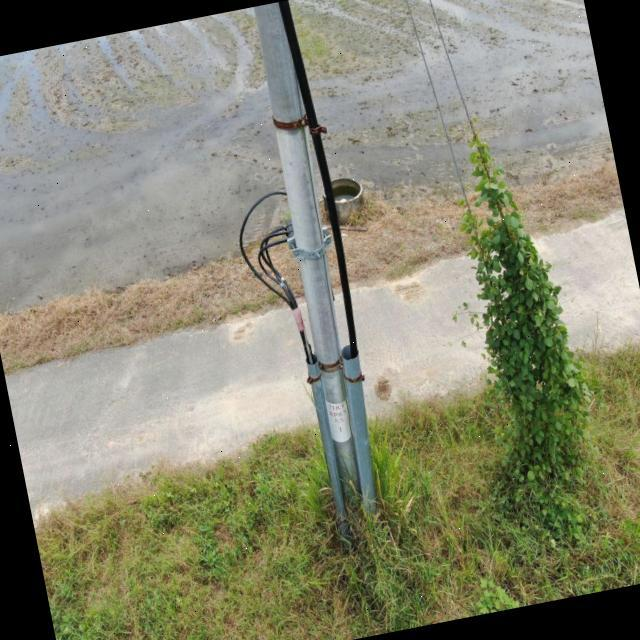critical vegetation: (420, 107, 616, 504)
